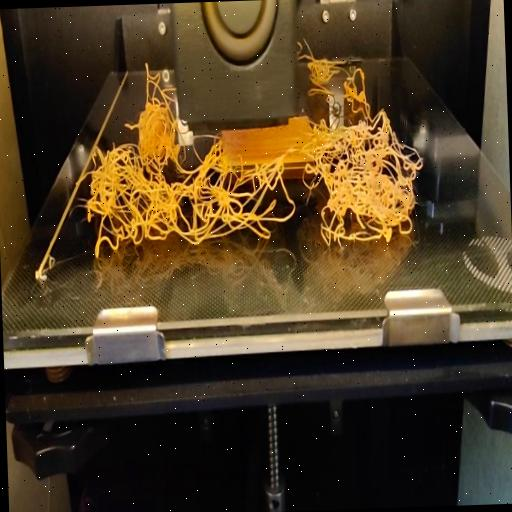spaghetti: (74, 119, 430, 271), (296, 32, 392, 128), (124, 66, 177, 134)
